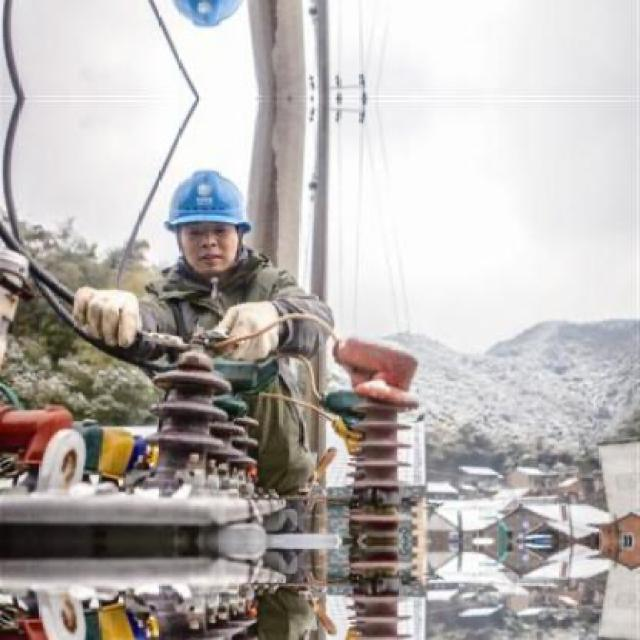con casco: (125, 149, 261, 265)
